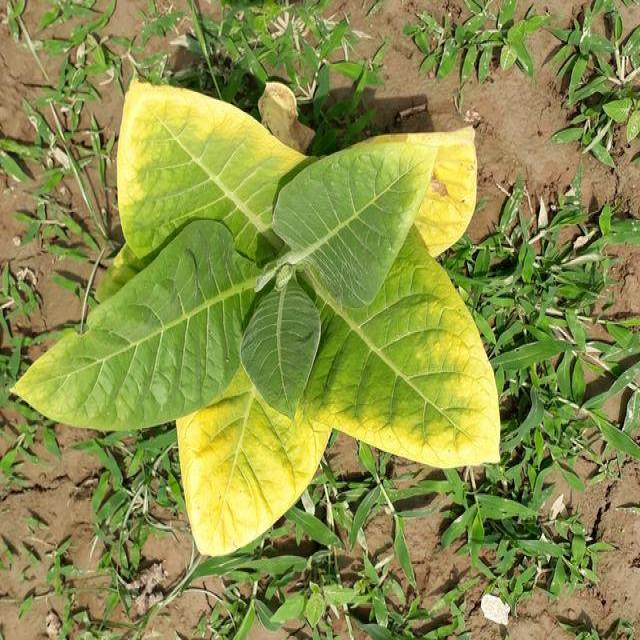crop: (15, 68, 522, 562)
